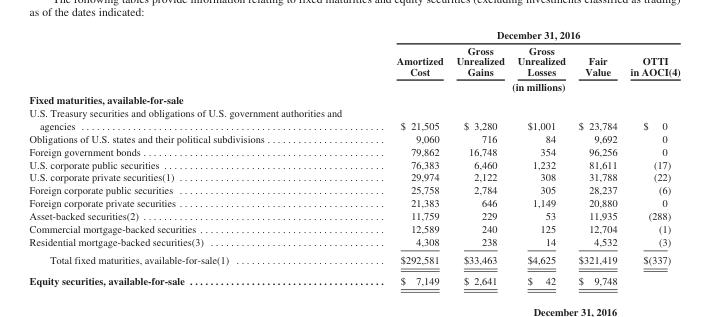table: (28, 28, 679, 286)
table column: (28, 28, 368, 286), (368, 28, 449, 286), (449, 28, 510, 286), (510, 28, 571, 286), (623, 28, 679, 286), (571, 28, 623, 286)
table column header: (28, 28, 679, 92)
table projected row header: (28, 92, 679, 105)
table row: (28, 42, 679, 78), (28, 105, 679, 131), (28, 250, 679, 269), (28, 269, 679, 286), (28, 235, 679, 250), (28, 28, 679, 42), (28, 78, 679, 92), (28, 92, 679, 105), (28, 131, 679, 144), (28, 144, 679, 157), (28, 157, 679, 170), (28, 170, 679, 183), (28, 183, 679, 196), (28, 196, 679, 209), (28, 209, 679, 222), (28, 222, 679, 235)
table spanning cell: (368, 28, 679, 42), (368, 78, 679, 92)
